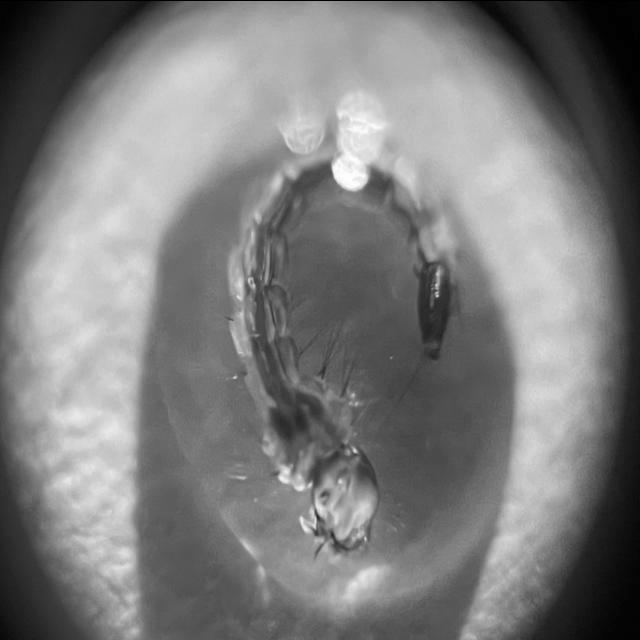larvas: (230, 138, 455, 555)
